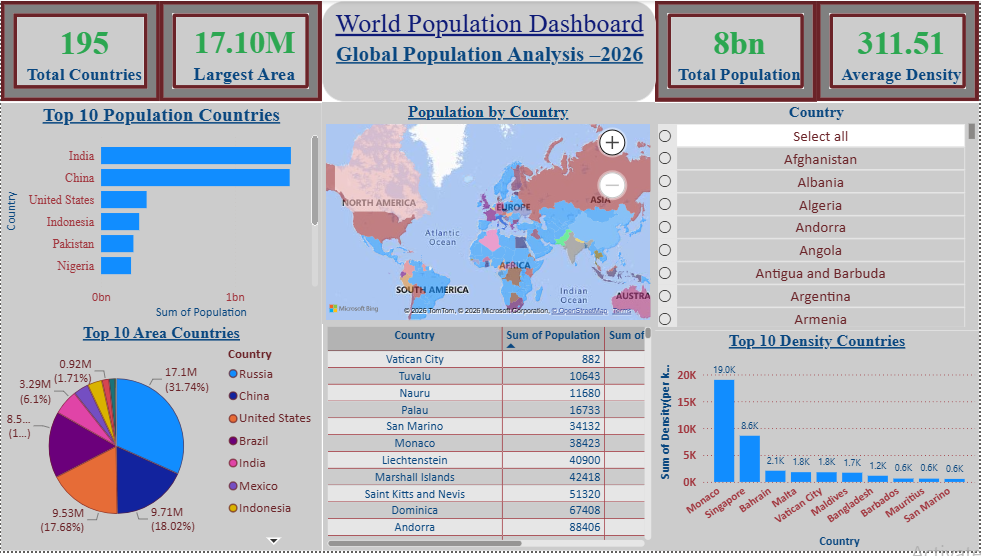

Layout of this report page (visuals, bound fields, positions):
{"tool":"powerbi","page":{"name":" Page 1","canvas":[1280,720],"ordinal":0},"visuals":[{"type":"cardVisual","fields":{"Data":["ISO Alpha1 (Sheet1).Total Countries"]},"box":[0,0,208.3,131],"z":0},{"type":"cardVisual","fields":{"Data":["ISO Alpha1 (Sheet1).Largest Area"]},"box":[208.3,0,211.7,131],"z":1000},{"type":"cardVisual","fields":{"Data":["ISO Alpha1 (Sheet1).Total Population"]},"box":[856.7,0,211.7,131.7],"z":2000},{"type":"cardVisual","fields":{"Data":["ISO Alpha1 (Sheet1).Average Density"]},"box":[1068.3,0,211.7,131],"z":3000},{"type":"clusteredBarChart","title":"Top 10 Population  Countries","fields":{"Category":["ISO Alpha1 (Sheet1).Country"],"Y":["Sum(ISO Alpha1 (Sheet1).Population)"]},"box":[0,133.3,420,288.3],"z":4000},{"type":"filledMap","title":"Population by Country","fields":{"Category":["ISO Alpha1 (Sheet1).Country"]},"box":[420,131.7,435,290],"z":5000},{"type":"clusteredColumnChart","title":"Top 10 Density Countries","fields":{"Y":["Sum(ISO Alpha1 (Sheet1).Density(per km2))"],"Category":["ISO Alpha1 (Sheet1).Country"]},"box":[855.7,431.4,424.3,288.6],"z":6000},{"type":"pieChart","title":"Top 10 Area Countries","fields":{"Category":["ISO Alpha1 (Sheet1).Country"],"Y":["Sum(ISO Alpha1 (Sheet1).Area (km2))"]},"box":[0,421.7,420,298.3],"z":7000},{"type":"textbox","title":"World Population Dashboard","box":[420,0,436.7,131.7],"z":8000},{"type":"tableEx","fields":{"Values":["ISO Alpha1 (Sheet1).Country","Sum(ISO Alpha1 (Sheet1).Population)","Sum(ISO Alpha1 (Sheet1).Area (km2))","Sum(ISO Alpha1 (Sheet1).Density(per km2))"]},"box":[421.7,421.7,435,298.3],"z":9000},{"type":"listSlicer","fields":{"Values":["ISO Alpha1 (Sheet1).Country"]},"box":[855,133.3,425,298.3],"z":10000}]}

Visuals, with their boxes in screenshot pixels (x1, y1, x2, y2), scaled from the page's 1280x720 canvas onto the 981x556 screenshot:
cardVisual - ISO Alpha1 (Sheet1).Total Countries: bbox=[0, 0, 160, 101]
cardVisual - ISO Alpha1 (Sheet1).Largest Area: bbox=[160, 0, 322, 101]
cardVisual - ISO Alpha1 (Sheet1).Total Population: bbox=[657, 0, 819, 102]
cardVisual - ISO Alpha1 (Sheet1).Average Density: bbox=[819, 0, 980, 101]
"Top 10 Population  Countries" clusteredBarChart: bbox=[0, 103, 322, 326]
"Population by Country" filledMap: bbox=[322, 102, 655, 326]
"Top 10 Density Countries" clusteredColumnChart: bbox=[656, 333, 980, 555]
"Top 10 Area Countries" pieChart: bbox=[0, 326, 322, 555]
"World Population Dashboard" textbox: bbox=[322, 0, 657, 102]
tableEx - ISO Alpha1 (Sheet1).Country x Sum(ISO Alpha1 (Sheet1).Population): bbox=[323, 326, 657, 555]
listSlicer - ISO Alpha1 (Sheet1).Country: bbox=[655, 103, 980, 333]
